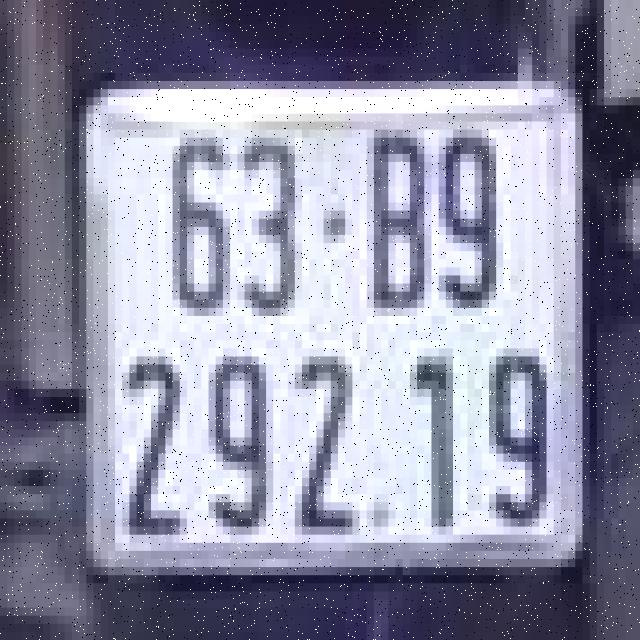1: (403, 320, 467, 555)
2: (108, 336, 194, 547), (284, 344, 363, 547)
3: (230, 114, 309, 332)
6: (151, 117, 245, 312)
9: (474, 320, 554, 539), (435, 117, 507, 320), (202, 340, 274, 535)
B: (366, 117, 438, 312)
